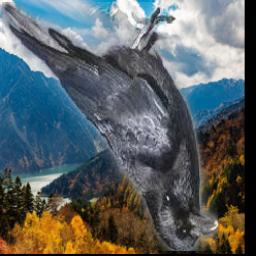Crow: (3, 2, 219, 251)
